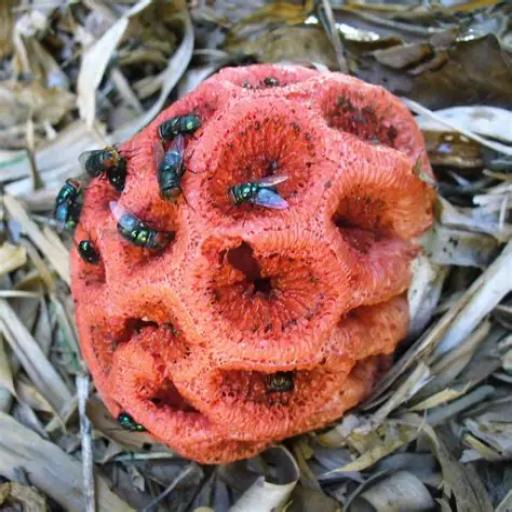Red Cage Fungus: (28, 31, 461, 501)
